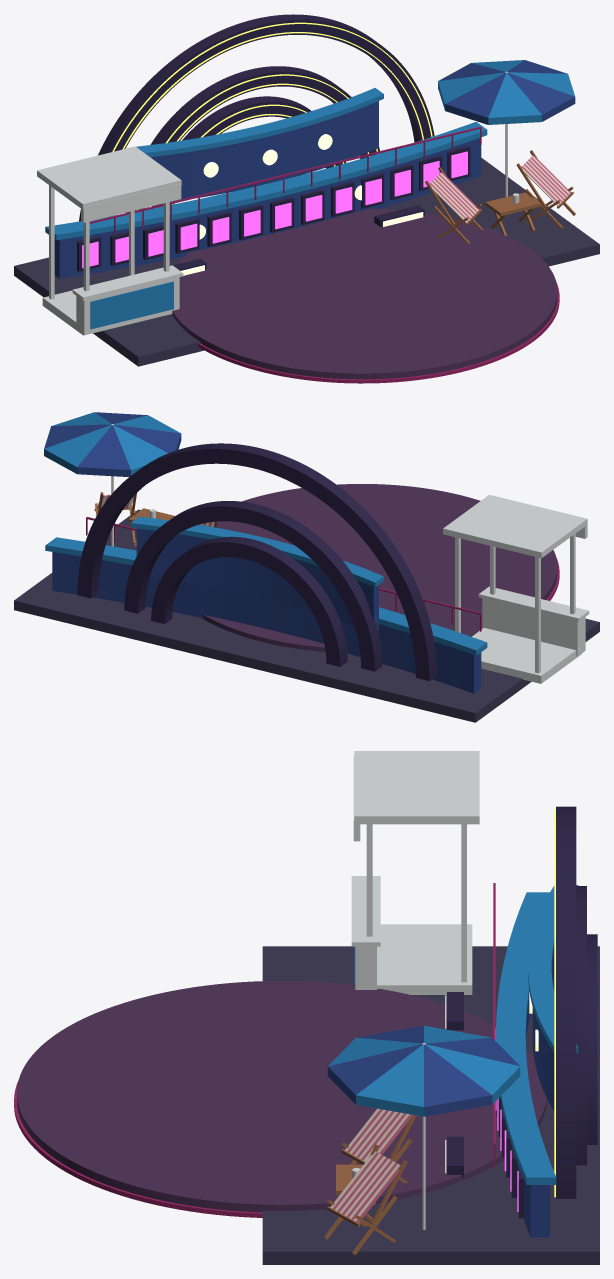
The picture shows the model from 3 angles, top to bottom: view 1: azimuth 30°, elevation 25°; view 2: azimuth 150°, elevation 25°; view 3: azimuth 270°, elevation 25°; orthographic projection. The views are drawn at different scales.
Parts seen in each view (by area): view 1: P01 finite front round podium, P03 finite rear apron, W01 upper curved shell, A00 vertical arch solid, W04 lower facade, W05 lower coping, K03 roof, A01 vertical arch solid, W03 upper coping, K06 counter front insert, A02 vertical arch solid, P02 podium edge (+15 smaller); view 2: P01 finite front round podium, P03 finite rear apron, A00 vertical arch solid, W04 lower facade, A01 vertical arch solid, A02 vertical arch solid, W01 upper curved shell, K03 roof, K01 pavilion plinth, K05 front counter, W05 lower coping, W03 upper coping (+11 smaller); view 3: P01 finite front round podium, P03 finite rear apron, K03 roof, A00 vertical arch solid, W05 lower coping, K01 pavilion plinth, W03 upper coping, A01 vertical arch solid, U02 canopy segment 0, U02 canopy segment 7, A02 vertical arch solid, U02 canopy segment 1 (+12 smaller).
Part boxes in pixels (<box>): P01 finite front round podium: <box>172,208,557,379</box>; P03 finite rear apron: <box>14,158,599,366</box>; W01 upper curved shell: <box>151,101,378,202</box>; A00 vertical arch solid: <box>79,14,434,221</box>; W04 lower facade: <box>54,138,481,278</box>; W05 lower coping: <box>45,122,487,240</box>; K03 roof: <box>37,146,181,209</box>; A01 vertical arch solid: <box>125,66,379,212</box>; W03 upper coping: <box>136,88,383,157</box>; K06 counter front insert: <box>90,281,173,329</box>; A02 vertical arch solid: <box>152,96,345,206</box>; P02 podium edge: <box>198,282,559,383</box>; P01 finite front round podium: <box>202,484,557,651</box>; P03 finite rear apron: <box>14,509,599,722</box>; A00 vertical arch solid: <box>77,443,436,680</box>; W04 lower facade: <box>52,552,481,693</box>; A01 vertical arch solid: <box>124,501,382,671</box>; A02 vertical arch solid: <box>151,536,347,666</box>; W01 upper curved shell: <box>136,528,378,630</box>; K03 roof: <box>443,494,587,558</box>; K01 pavilion plinth: <box>472,628,581,683</box>; K05 front counter: <box>482,598,585,656</box>; W05 lower coping: <box>45,537,487,655</box>; W03 upper coping: <box>130,516,383,587</box>; P01 finite front round podium: <box>17,981,546,1212</box>; P03 finite rear apron: <box>262,946,599,1264</box>; K03 roof: <box>354,751,479,824</box>; A00 vertical arch solid: <box>556,806,576,1198</box>; W05 lower coping: <box>496,892,556,1184</box>; K01 pavilion plinth: <box>377,924,472,994</box>; W03 upper coping: <box>528,885,578,1053</box>; A01 vertical arch solid: <box>576,886,586,1165</box>; U02 canopy segment 0: <box>424,1044,492,1116</box>; U02 canopy segment 7: <box>356,1044,423,1116</box>; A02 vertical arch solid: <box>587,934,597,1144</box>; U02 canopy segment 1: <box>425,1044,520,1104</box>.
Size of the model in its own units: 16.62 by 6.41 by 12.16.
